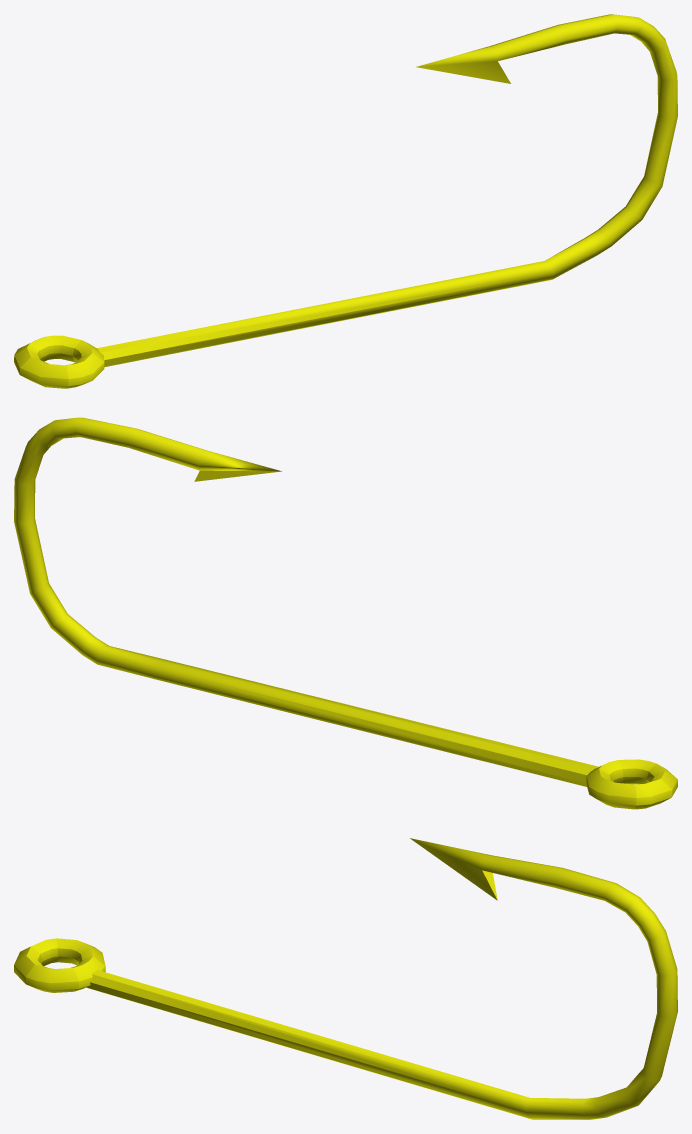
Rendered from Rig_NoSinker_L.fbx.
3 views of the same model, one above another, from view 1: azimuth 30°, elevation 25°; view 2: azimuth 150°, elevation 25°; view 3: azimuth 330°, elevation 25° (orthographic). The views are drawn at different scales.
Visible parts, largest first — view 1: polySurface326; view 2: polySurface326; view 3: polySurface326.
Boxes of the visible parts, bbox=[...] form: polySurface326: bbox=[14, 14, 677, 388]; polySurface326: bbox=[14, 417, 677, 809]; polySurface326: bbox=[14, 838, 677, 1119].
Bounding box in the file's own units: 0.2522 × 0.0908 × 0.0306.
